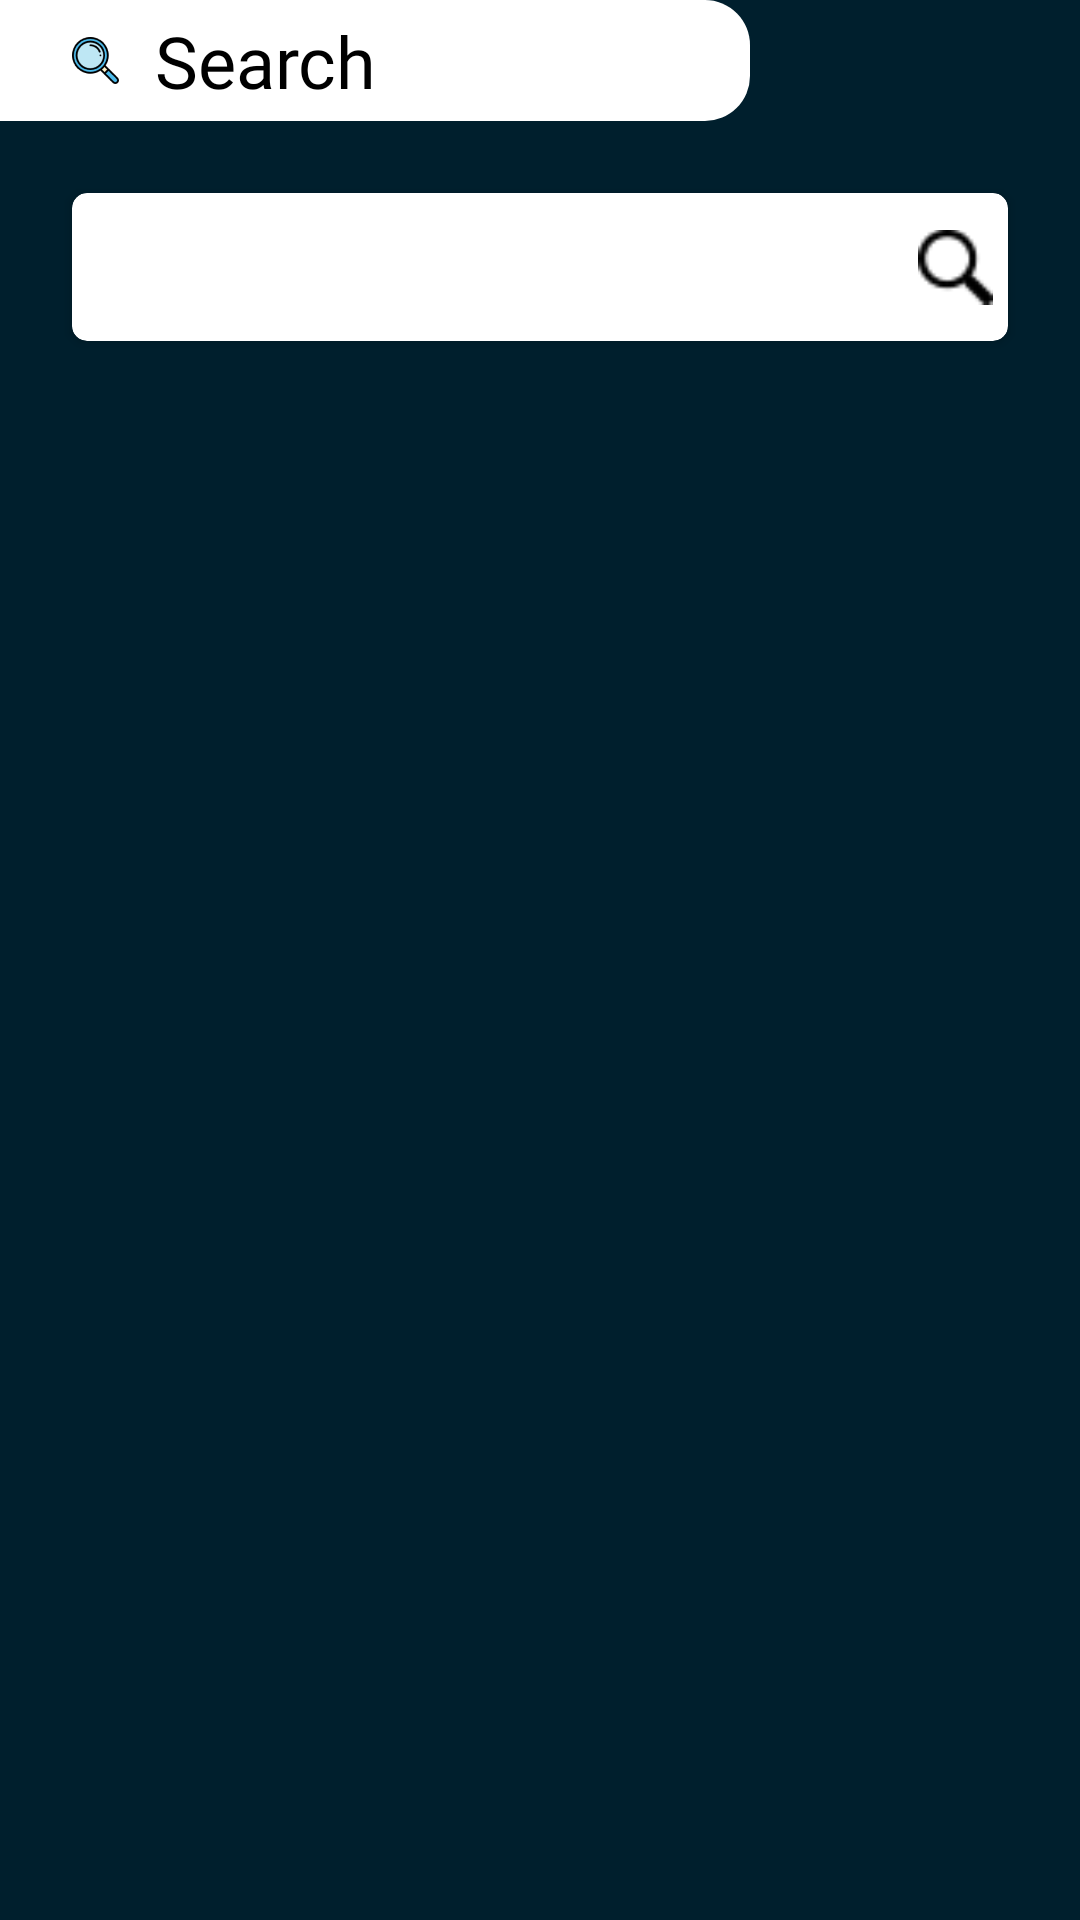

Where to tap for icons on this 1080px×1920px app screen, as [x,y]:
magnifying glass: [955,267]
